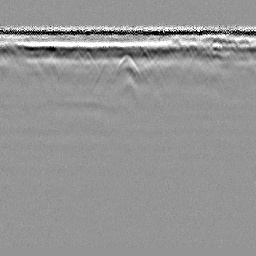cavity: (114, 52, 143, 79)
